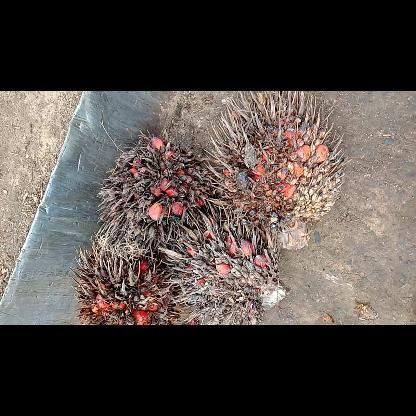Terlalu masak: (202, 91, 350, 256), (152, 200, 292, 324), (94, 127, 218, 260), (68, 234, 182, 324)
